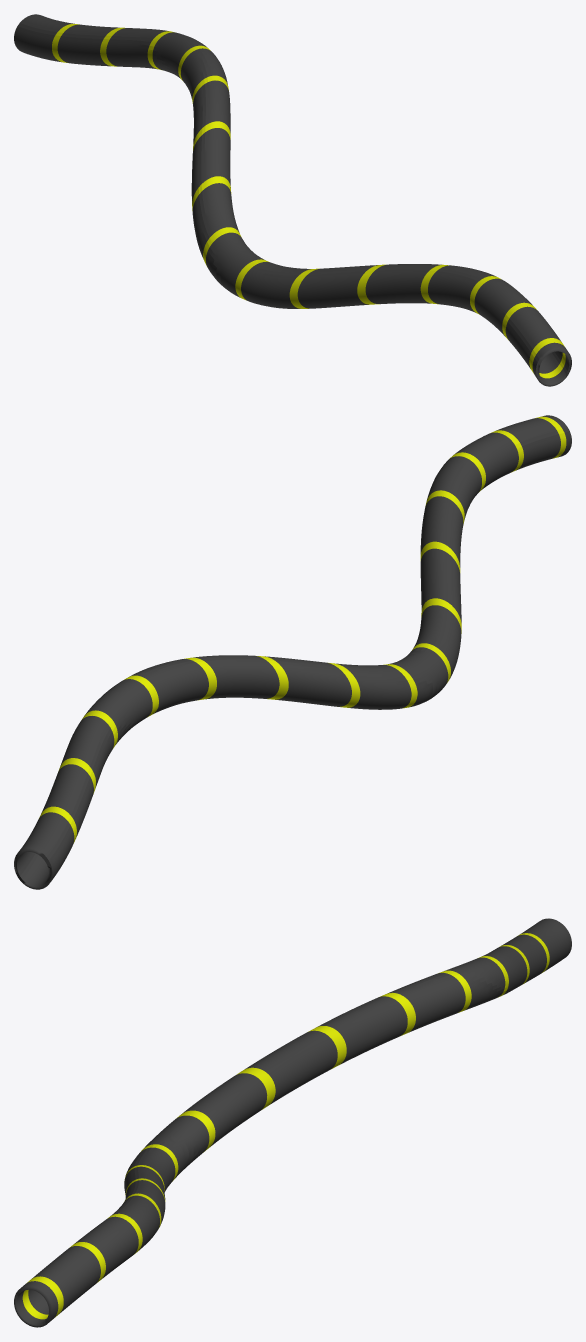
The model's file is RoadWindingTunnel.fbx.
3 views of the same model, one above another, from view 1: azimuth 30°, elevation 25°; view 2: azimuth 150°, elevation 25°; view 3: azimuth 330°, elevation 25° (orthographic). The views are drawn at different scales.
Parts seen in each view (by area): view 1: Cylinder; view 2: Cylinder; view 3: Cylinder.
Part boxes in pixels (<box>): Cylinder: <box>14,14,571,386</box>; Cylinder: <box>14,415,571,889</box>; Cylinder: <box>14,918,571,1327</box>.
Bounding box in the file's own units: 6962 × 4688 × 40387.
